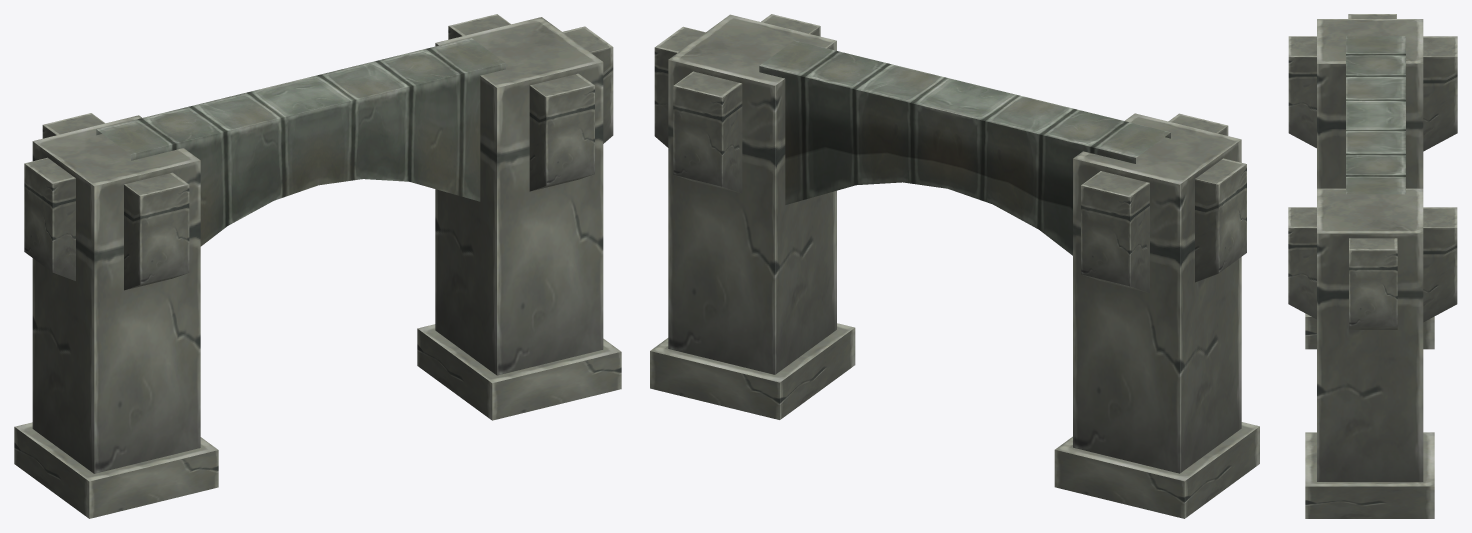
The model's file is bridge_04a_downside_01.fbx.
The picture shows the model from 3 angles, left to right: view 1: azimuth 30°, elevation 25°; view 2: azimuth 150°, elevation 25°; view 3: azimuth 270°, elevation 25°; orthographic projection. The views are drawn at different scales.
Parts seen in each view (by area): view 1: bridge_04a_downside_01; view 2: bridge_04a_downside_01; view 3: bridge_04a_downside_01.
Boxes of the visible parts, x1,y1,x2,y2 form: bridge_04a_downside_01: (14,14,621,518); bridge_04a_downside_01: (650,14,1259,518); bridge_04a_downside_01: (1288,14,1457,518).
Size of the model in its own units: 3.43 by 1.93 by 1.04.
